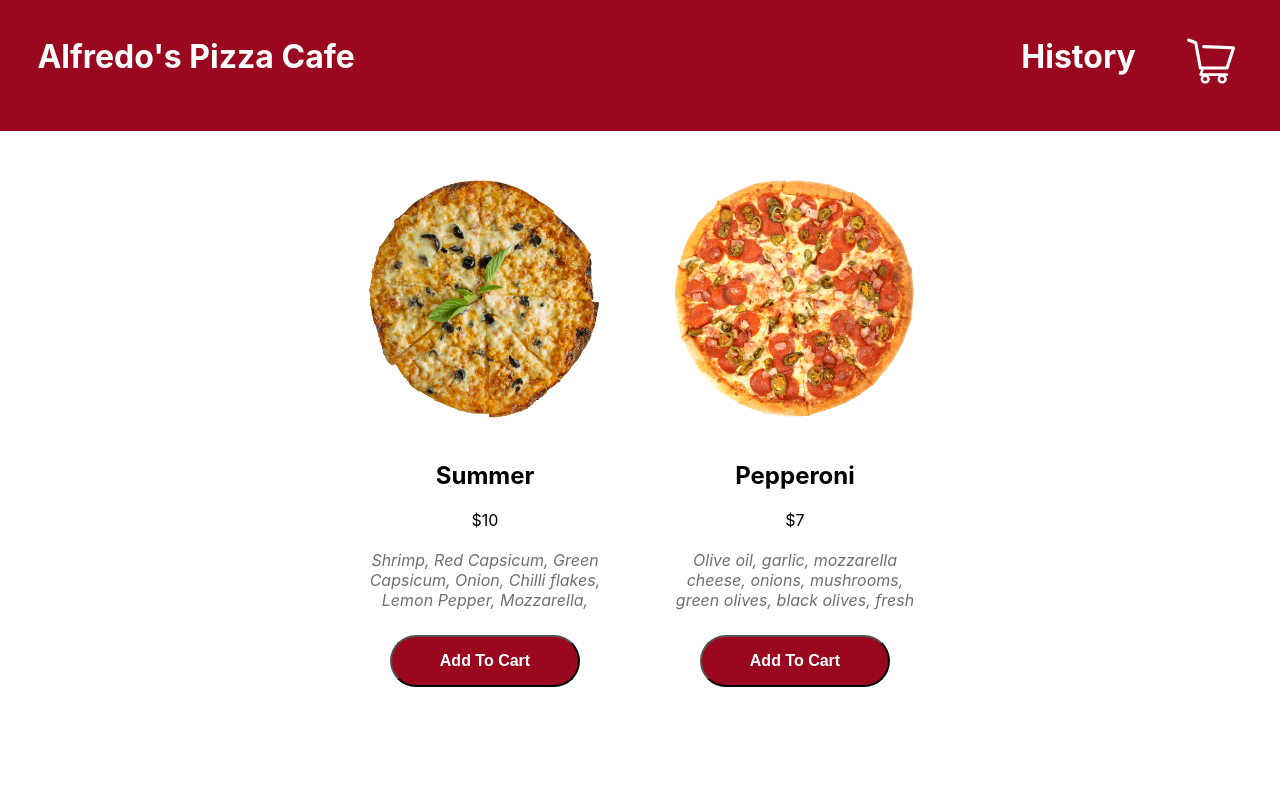
Test case: displays the total
Click the button "Add To Cart" below "Summer" at {"x": 485, "y": 661}, box [390,635,580,687]
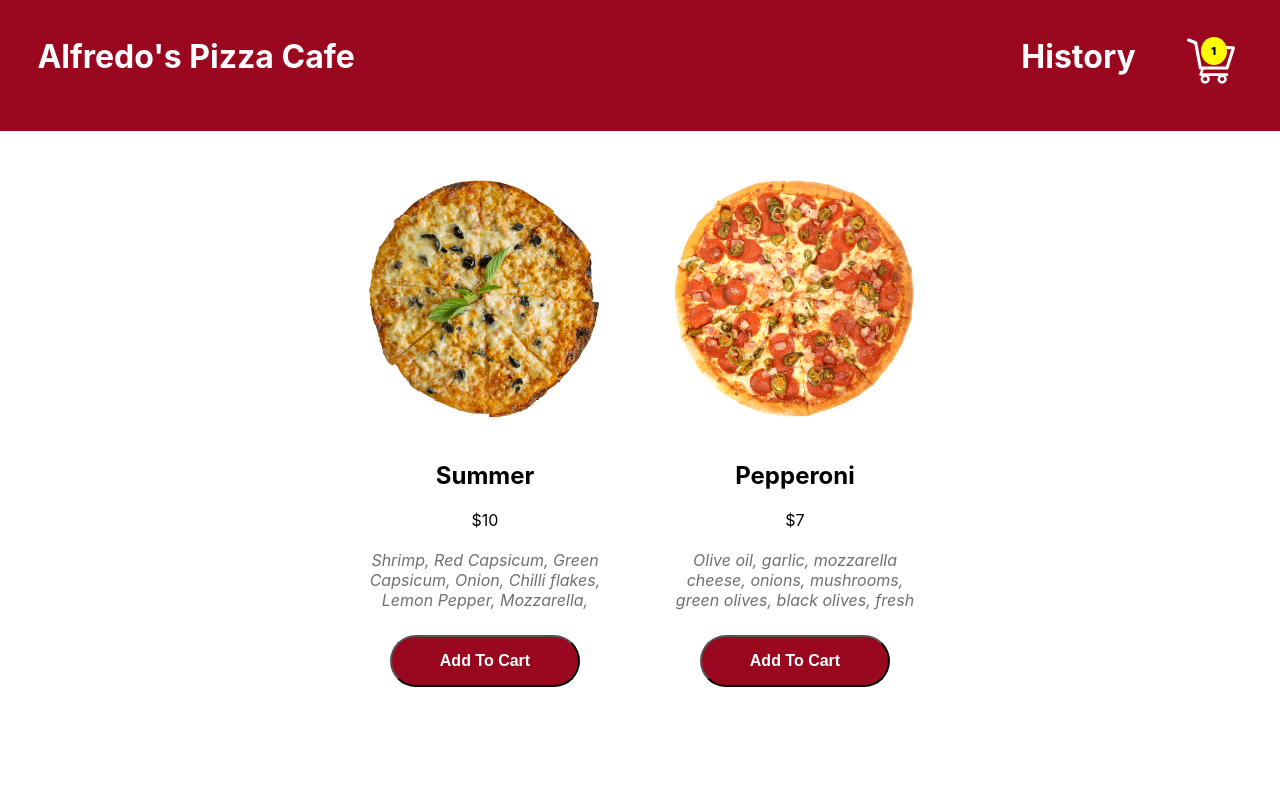
Click the button "Add To Cart" below "Summer" at {"x": 485, "y": 661}, box [390,635,580,687]
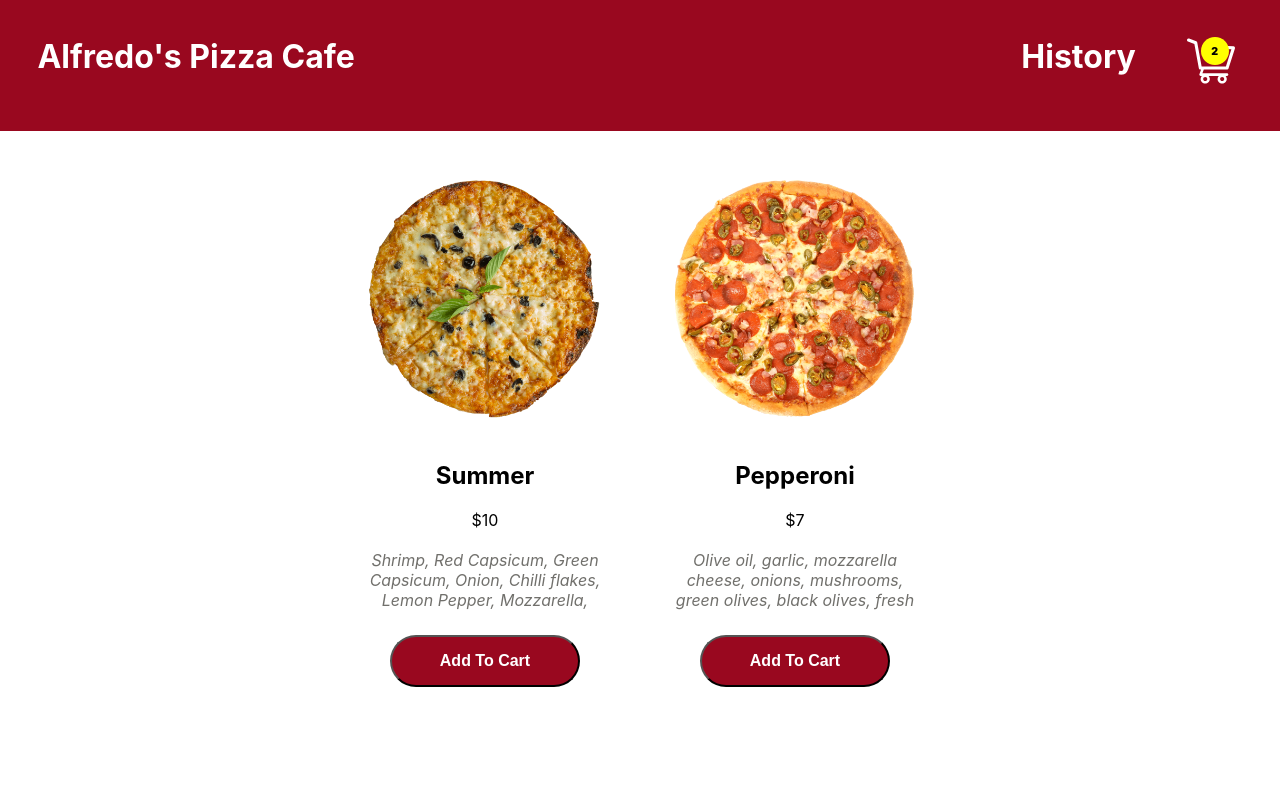
Click the button "Add To Cart" below "Pepperoni" at {"x": 795, "y": 661}, box [700,635,890,687]
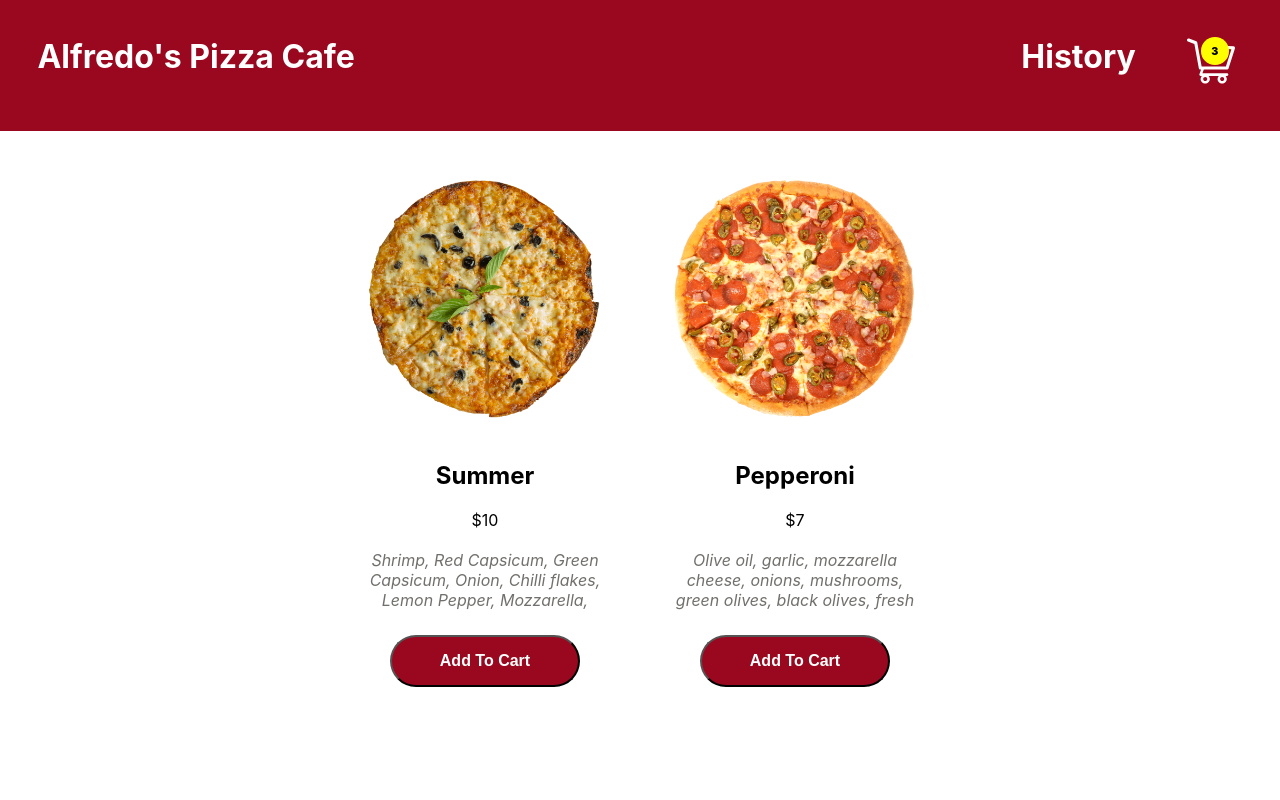
Click the button "Add To Cart" below "Pepperoni" at {"x": 795, "y": 661}, box [700,635,890,687]
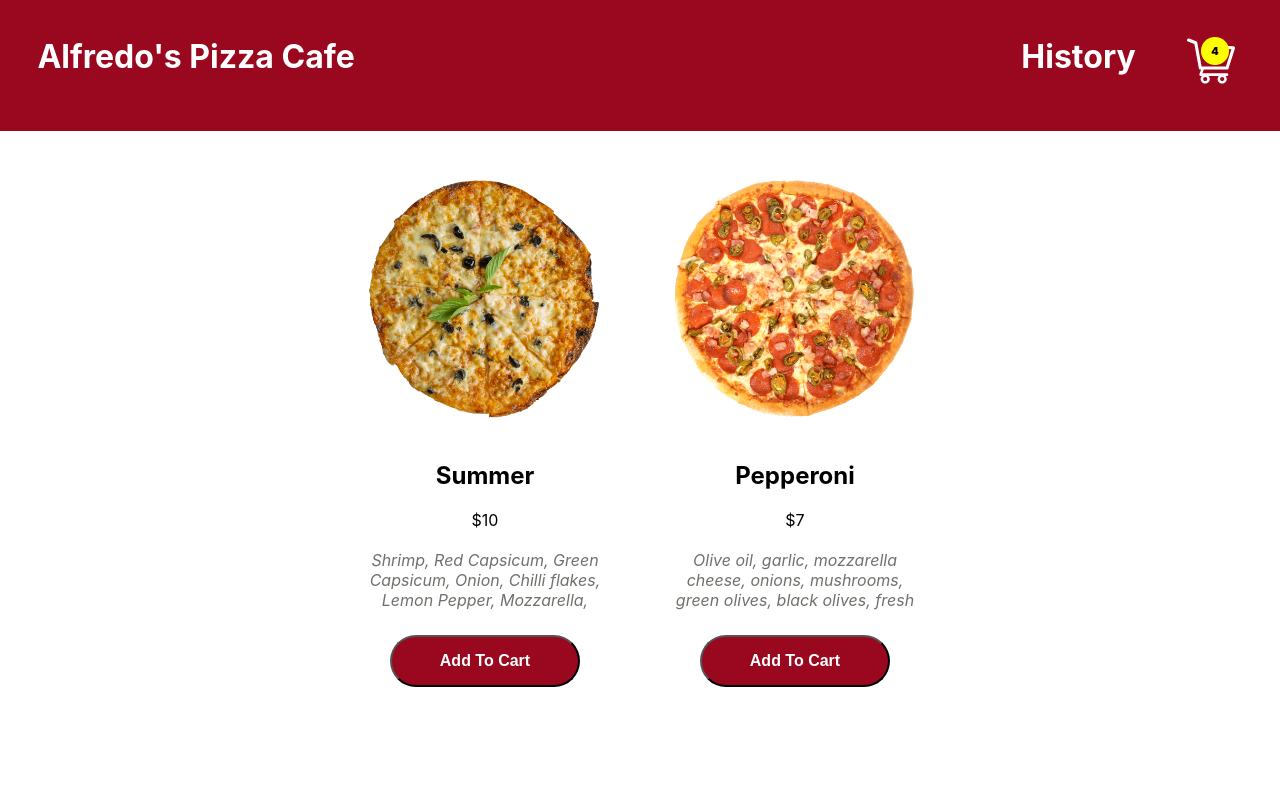
Click the link with class "CartButton" at {"x": 1211, "y": 37}, box [1179,37,1243,93]
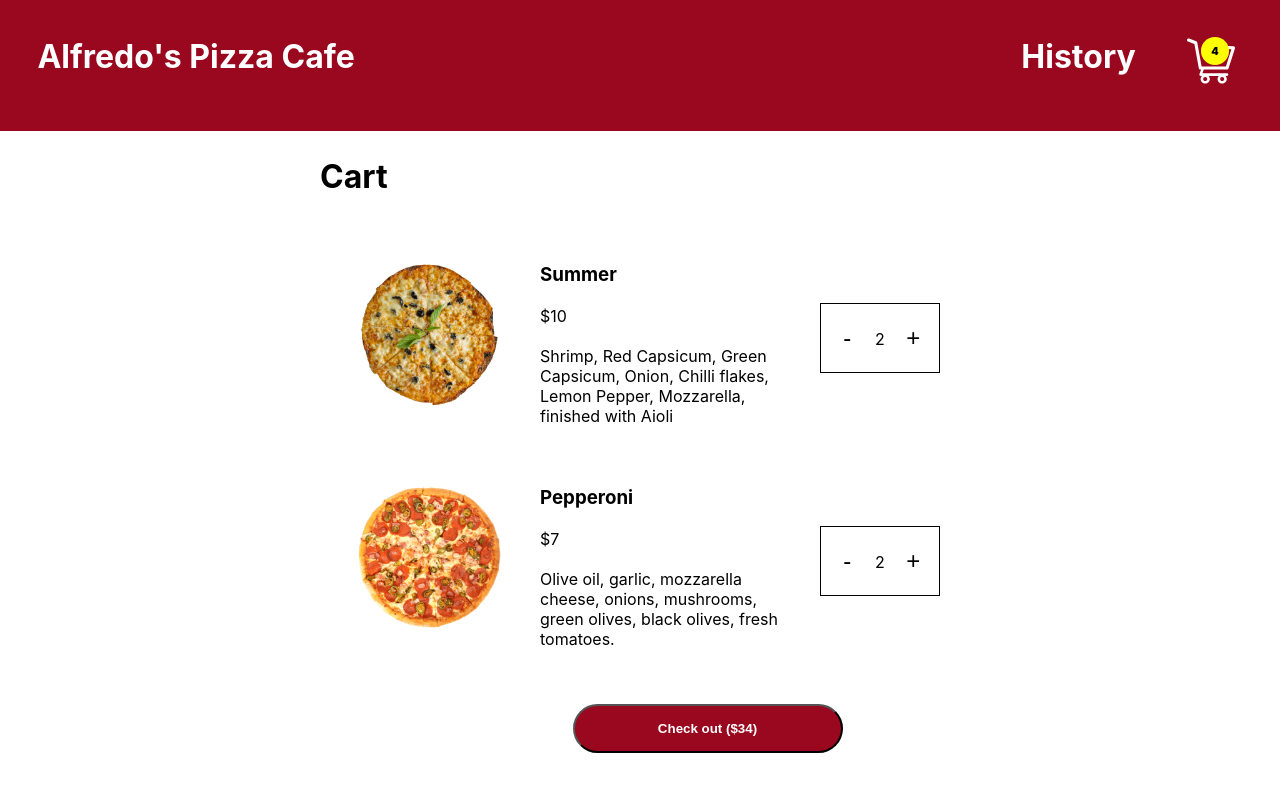
Expected: the element with class "Cart-purchase" reads "Check out ($34)", [572,704,842,753]
